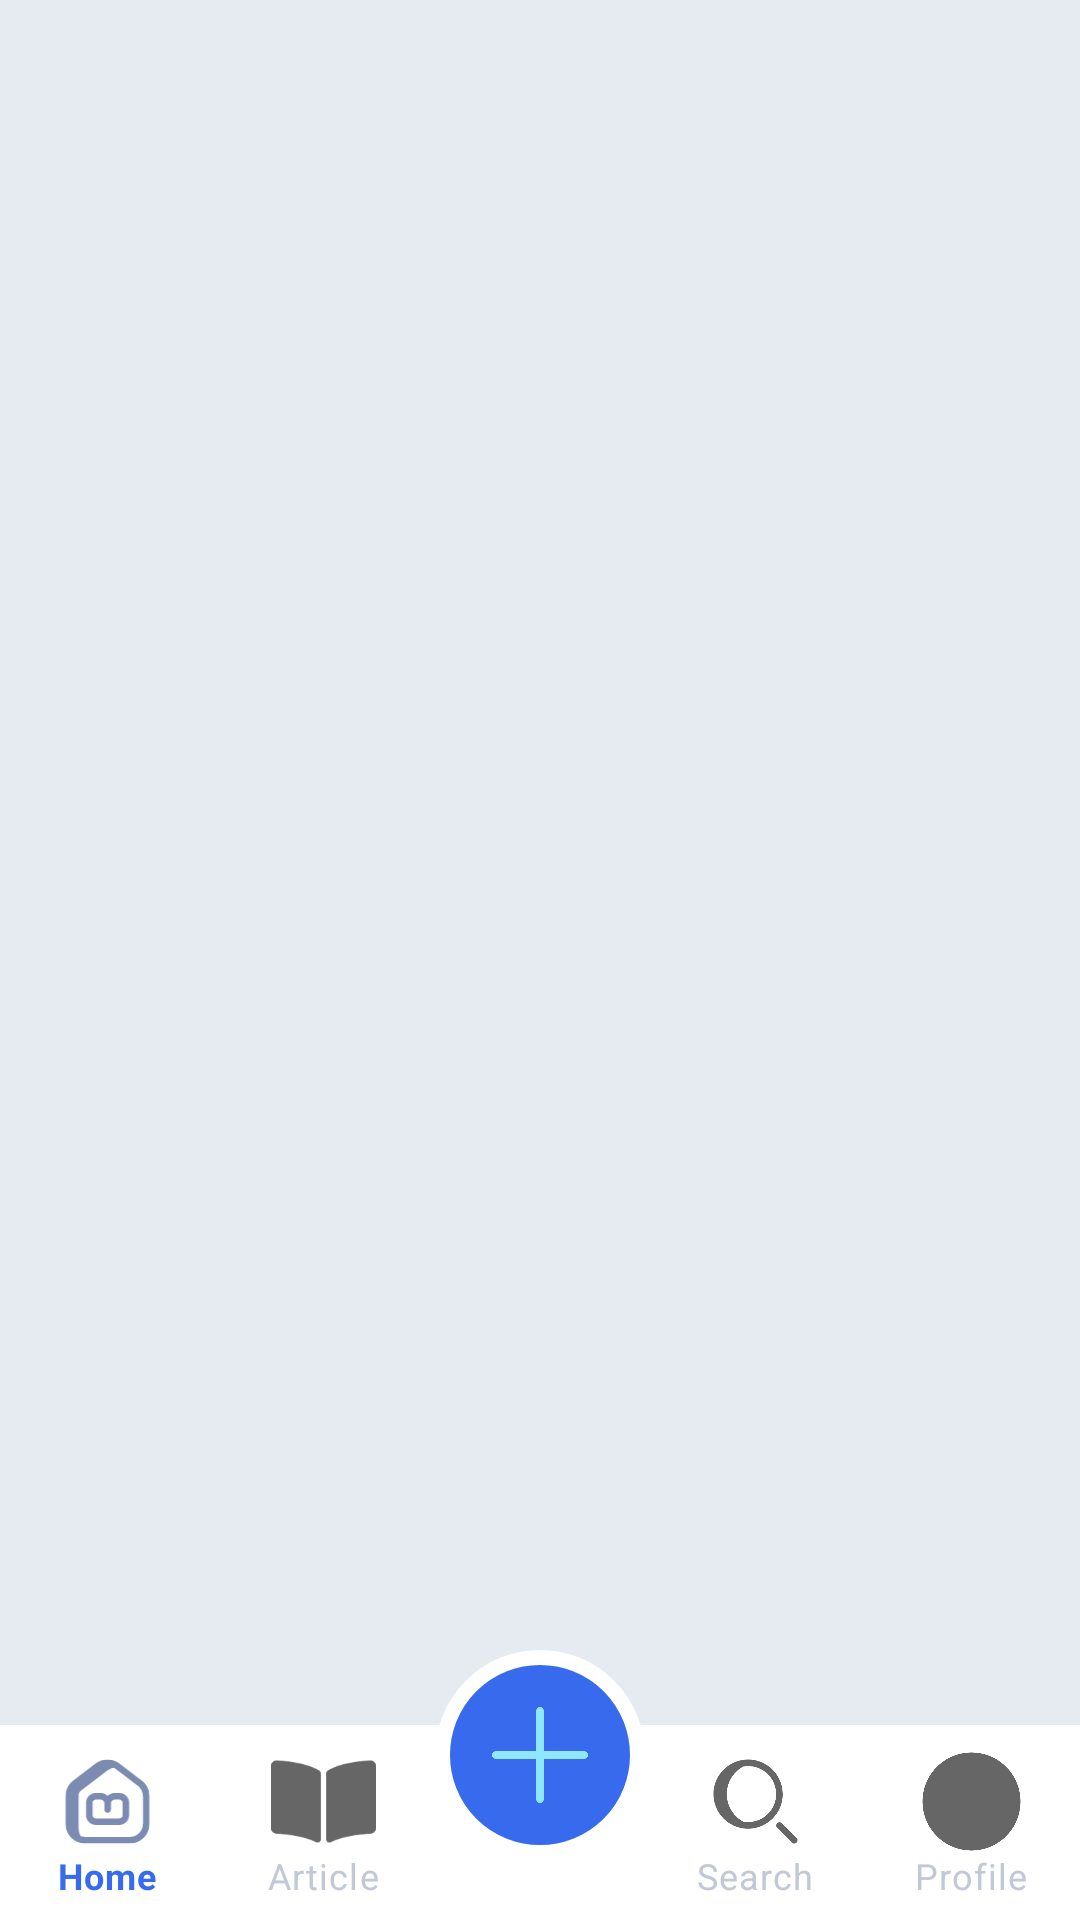

Icons on this 1080 × 1920 Android screen, each with the point to tap as point (x, y):
plus: point (540, 1755)
